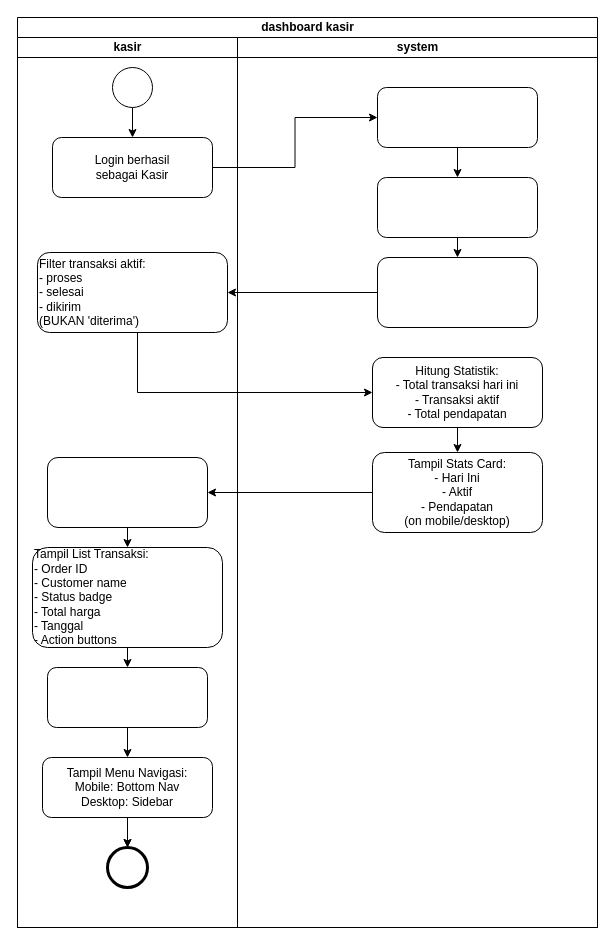
The diagram is 615 pixels wide and 945 high, and some of its shapes have lost their labels. The centre of each missing label's shape, as x and y in pixels:
"_loadData() Load Transaksi aktif" goes at [457,207].
"Navigator.pushNamed (AppRoutes.kasirDashboard)" goes at [457,117].
"Tampil FAB: '+ Transaksi Baru'" goes at [127,697].
"Tampil Tab Filter: - Semua - Proses - Selesai - Dikirim" goes at [127,492].
"TransaksiProvider .transaksi (load semua transaksi)" goes at [457,292].
